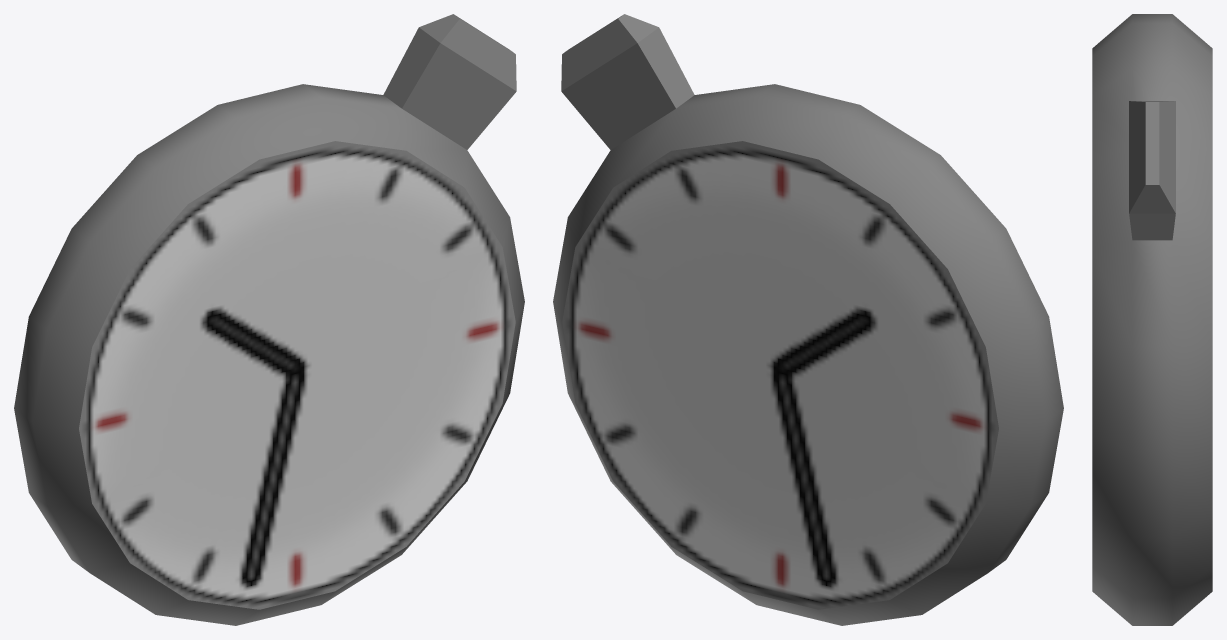
The model's file is watch2.obj.
3 renders of one model, left to right at view 1: azimuth 30°, elevation 25°; view 2: azimuth 150°, elevation 25°; view 3: azimuth 270°, elevation 25°, orthographic. The views are drawn at different scales.
Parts seen in each view (by area): view 1: watch002, watch001; view 2: watch002, watch001; view 3: watch001.
Boxes of the visible parts, bbox=[...] form: watch002: bbox=[79, 141, 515, 609]; watch001: bbox=[14, 14, 524, 625]; watch002: bbox=[562, 141, 998, 609]; watch001: bbox=[553, 14, 1063, 625]; watch001: bbox=[1092, 14, 1212, 625].
Bounding box in the file's own units: 13.31 × 14.12 × 2.61.
